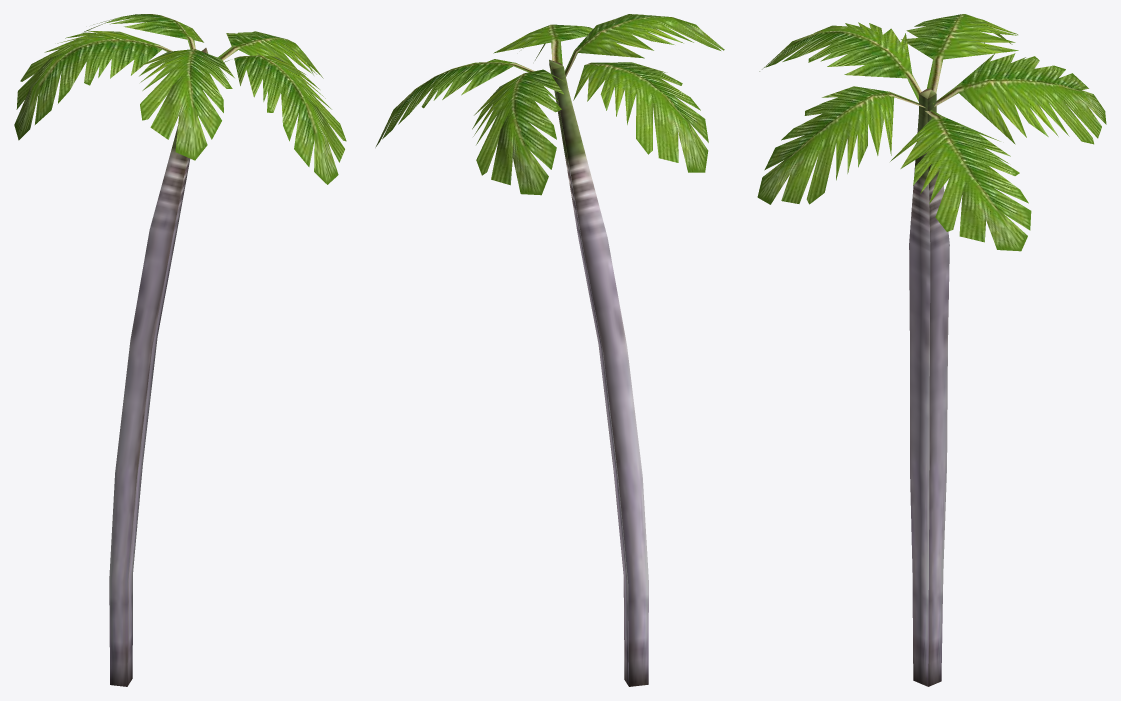
The model's file is cay-cau-vua-01.glb.
The picture shows the model from 3 angles, left to right: view 1: azimuth 30°, elevation 25°; view 2: azimuth 150°, elevation 25°; view 3: azimuth 270°, elevation 25°; orthographic projection. The views are drawn at different scales.
Visible parts, largest first — view 1: CayCauVua01; view 2: CayCauVua01; view 3: CayCauVua01.
Boxes of the visible parts, x1,y1,x2,y2 form: CayCauVua01: [14, 14, 346, 686]; CayCauVua01: [375, 14, 724, 686]; CayCauVua01: [757, 14, 1106, 686].
Size of the model in its own units: 2.41 by 4.75 by 2.27.
1 material, 1 textured.
